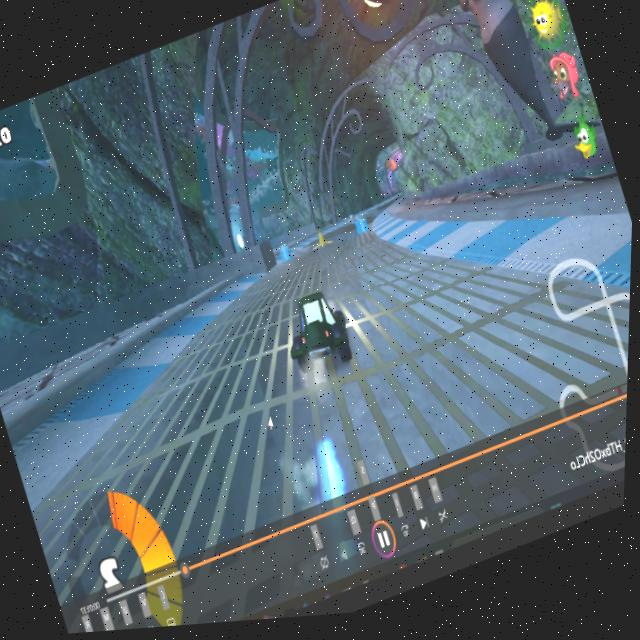bonus: (350, 216, 377, 247), (277, 240, 302, 268)
obstacle: (309, 233, 339, 262)
player_kart: (276, 284, 371, 390)
